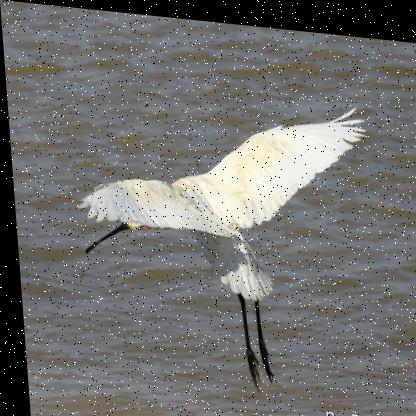Burung: (69, 73, 381, 390)
